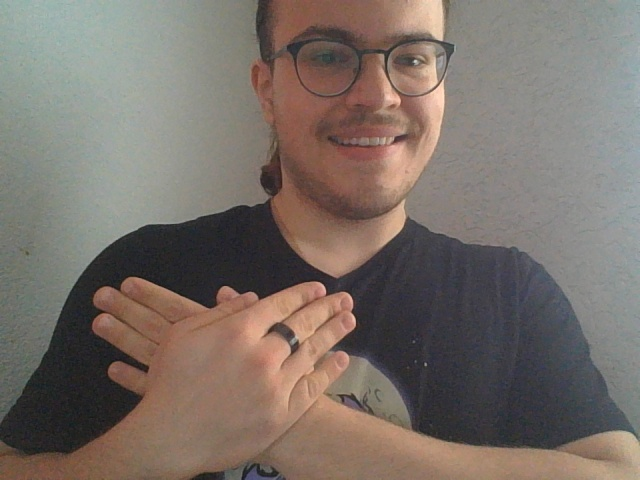Love: (89, 275, 359, 455)
